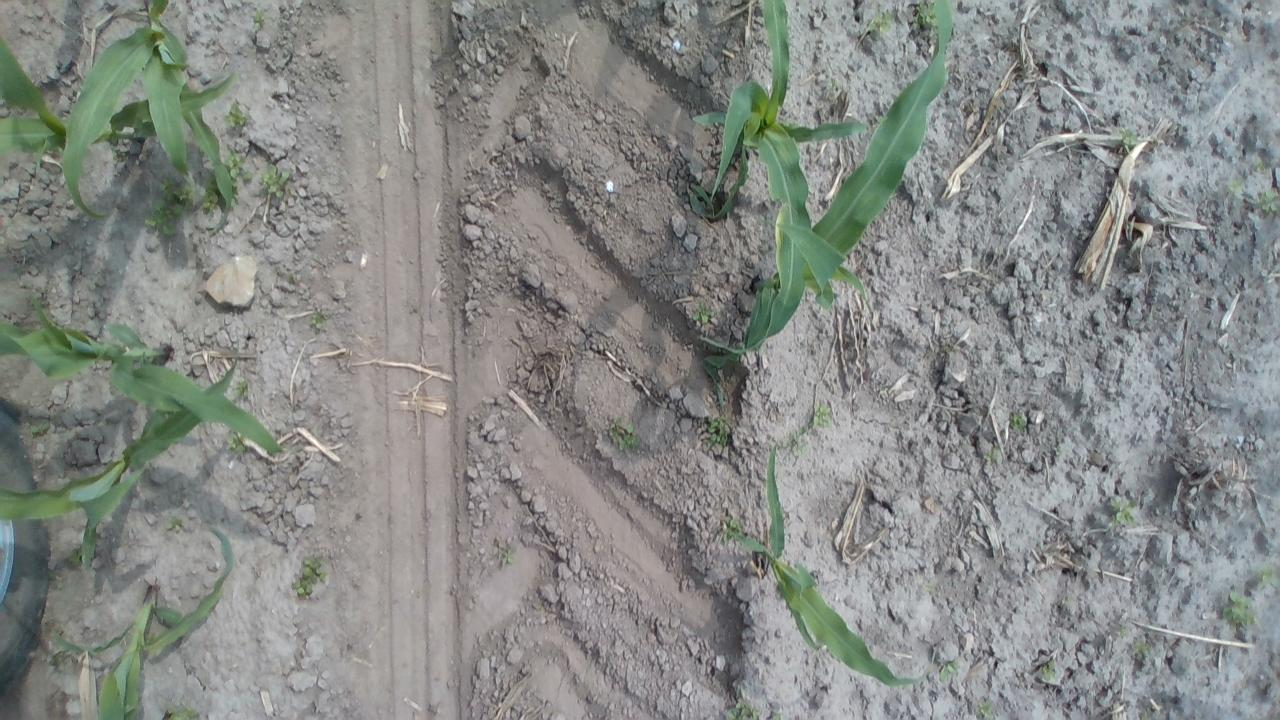Maize: (699, 0, 963, 410), (688, 0, 872, 362), (0, 353, 246, 574), (0, 288, 292, 468), (730, 443, 931, 698), (0, 525, 245, 720), (55, 0, 248, 233), (0, 23, 253, 158)
Weeds: (143, 174, 201, 240), (292, 552, 328, 602), (720, 695, 786, 720), (1220, 588, 1256, 632), (257, 166, 297, 202), (222, 145, 252, 190), (605, 416, 642, 451), (704, 413, 732, 450), (224, 99, 254, 130), (1108, 494, 1135, 528), (201, 173, 222, 216), (1118, 125, 1145, 155), (718, 517, 744, 548), (1254, 188, 1280, 219), (864, 9, 893, 36), (913, 0, 939, 30), (494, 540, 520, 570), (165, 702, 208, 720), (226, 426, 248, 461), (164, 512, 192, 537), (1255, 564, 1280, 592), (688, 300, 716, 324), (811, 404, 836, 430), (232, 378, 255, 406), (970, 696, 996, 720), (310, 305, 332, 333), (937, 655, 959, 681), (1007, 406, 1029, 431), (28, 416, 54, 437), (67, 544, 85, 569), (983, 441, 1004, 462), (1225, 176, 1245, 198), (1038, 658, 1057, 680), (248, 8, 266, 30), (1133, 637, 1152, 657), (1115, 621, 1133, 641)
